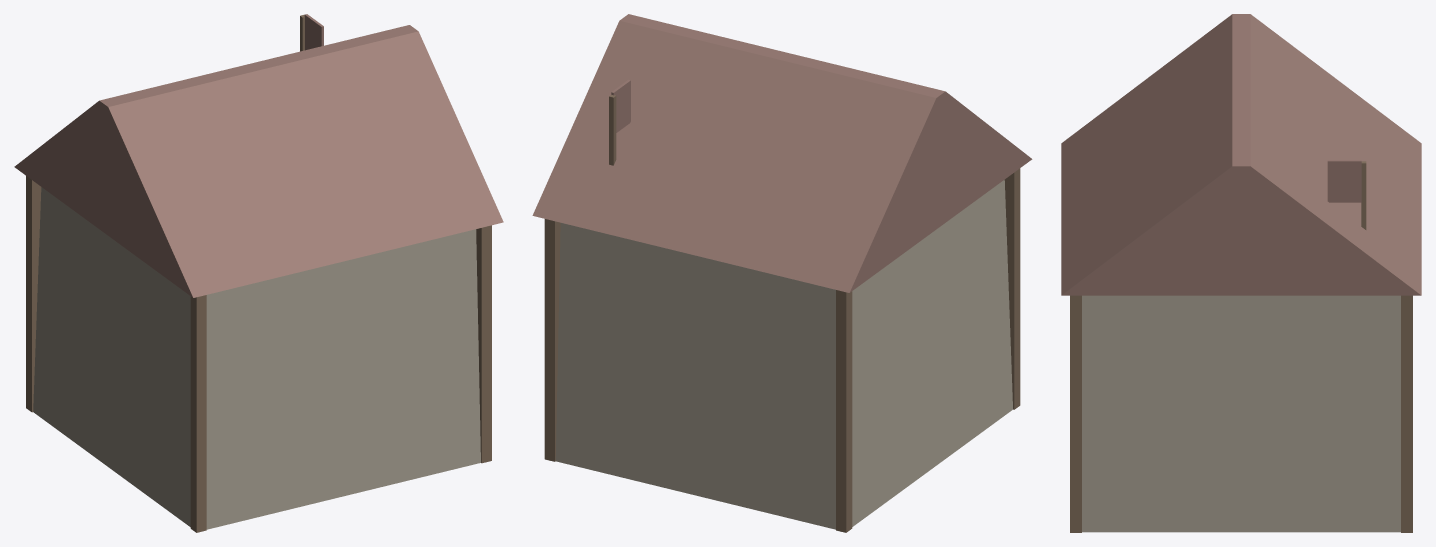
File: town_centre.glb
The picture shows the model from 3 angles, left to right: view 1: azimuth 30°, elevation 25°; view 2: azimuth 150°, elevation 25°; view 3: azimuth 270°, elevation 25°; orthographic projection. The views are drawn at different scales.
Parts seen in each view (by area): view 1: town_centre; view 2: town_centre; view 3: town_centre.
Boxes of the visible parts, x1,y1,x2,y2 form: town_centre: (14, 14, 503, 532); town_centre: (532, 14, 1032, 532); town_centre: (1061, 14, 1421, 532).
Size of the model in its own units: 4.88 by 5.53 by 4.88.
